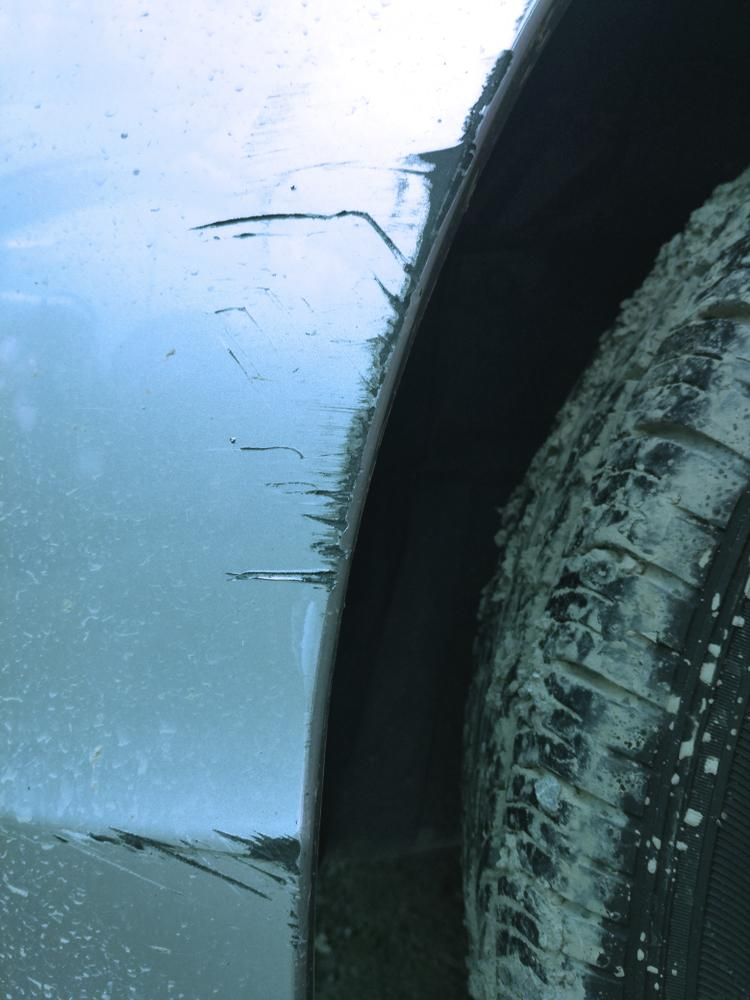scratch: (196, 42, 522, 622), (48, 825, 315, 949)
